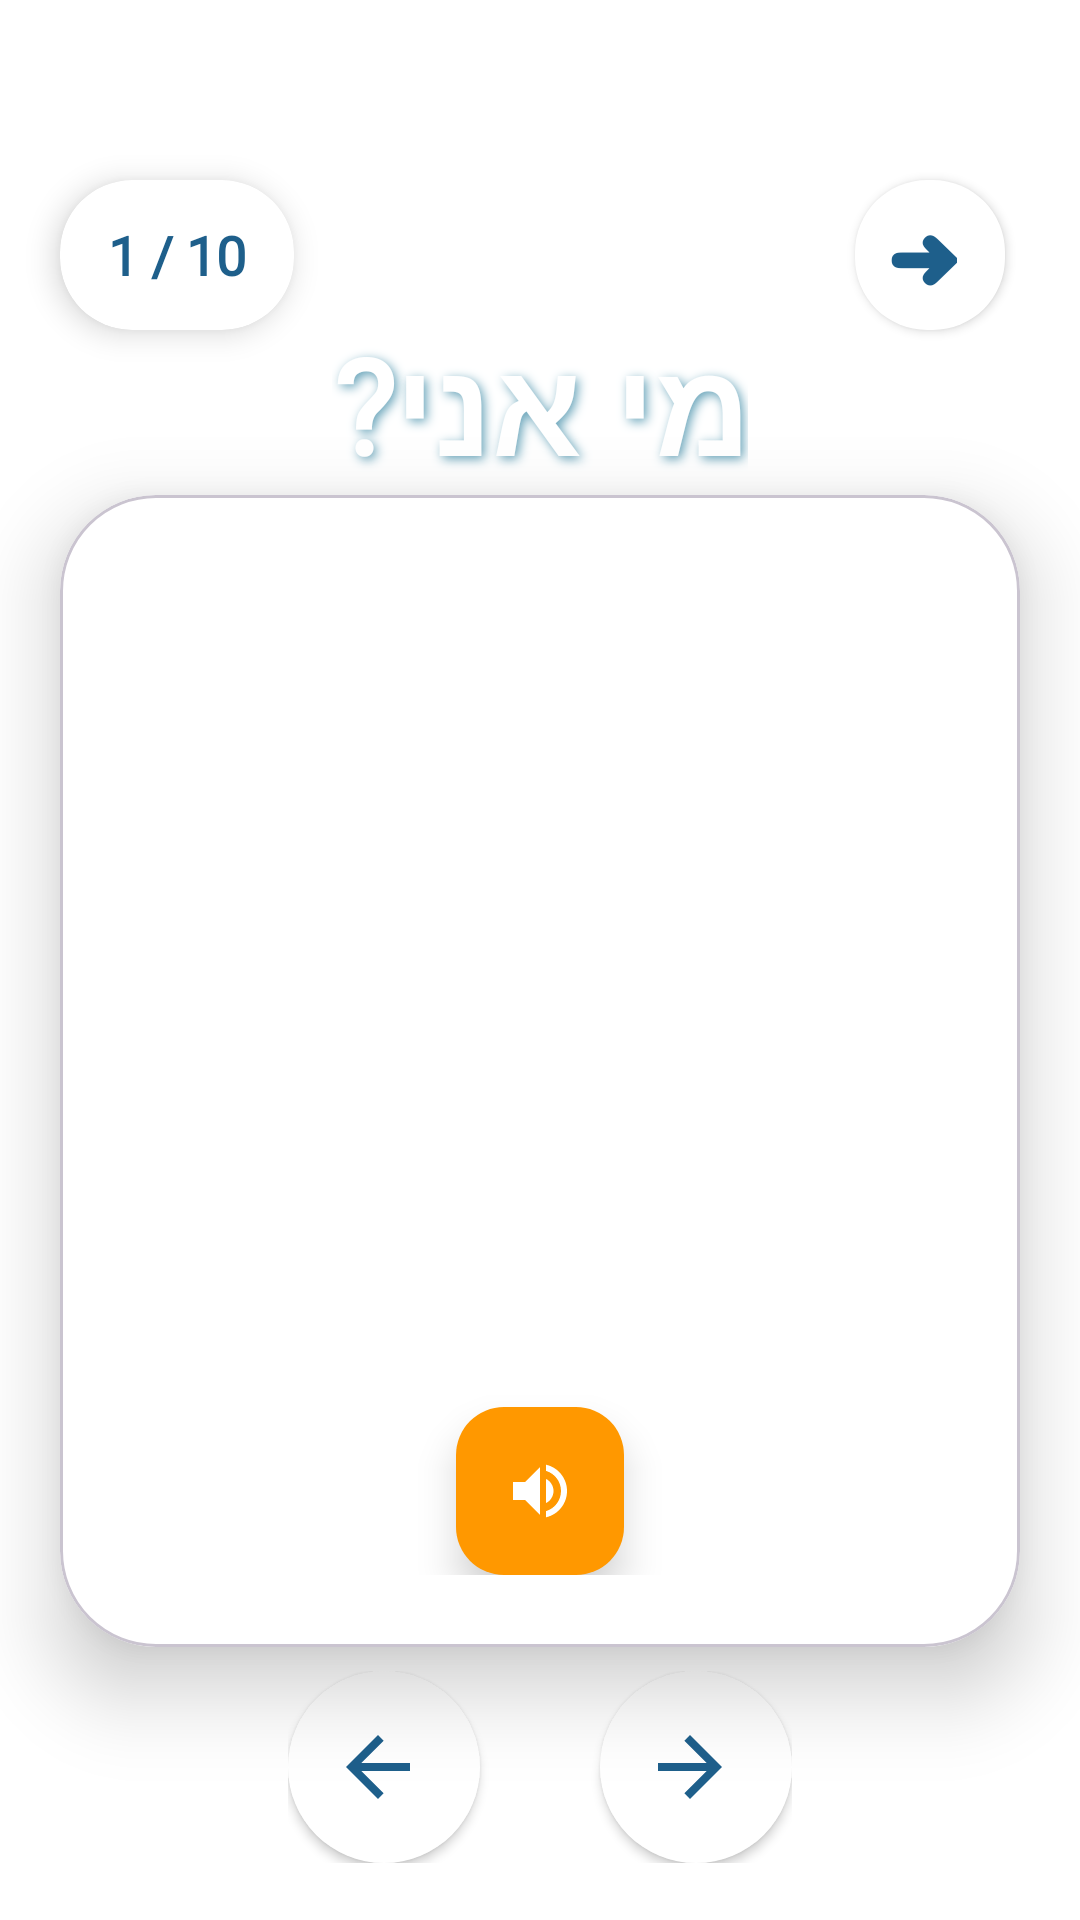

Point at icon controls on the screen. Image size 1080×1920, points as [x,y].
arrow back: [384,1767]
arrow forward: [696,1767]
השמע קול: [540,1491]
